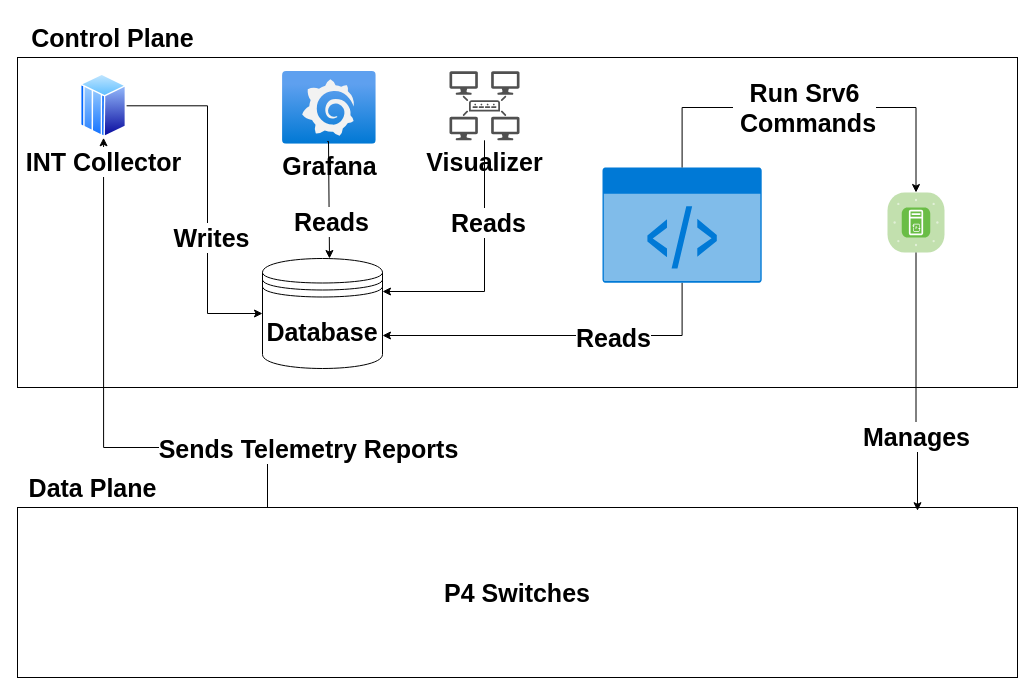
The diagram is 1035 pixels wide and 695 high, and some of its shapes have lost their labels. The centre of each missing label's shape, as x and y in pixels:
"INT Analyzer" goes at point 681,224.
"SDN Controller" goes at point 915,222.
